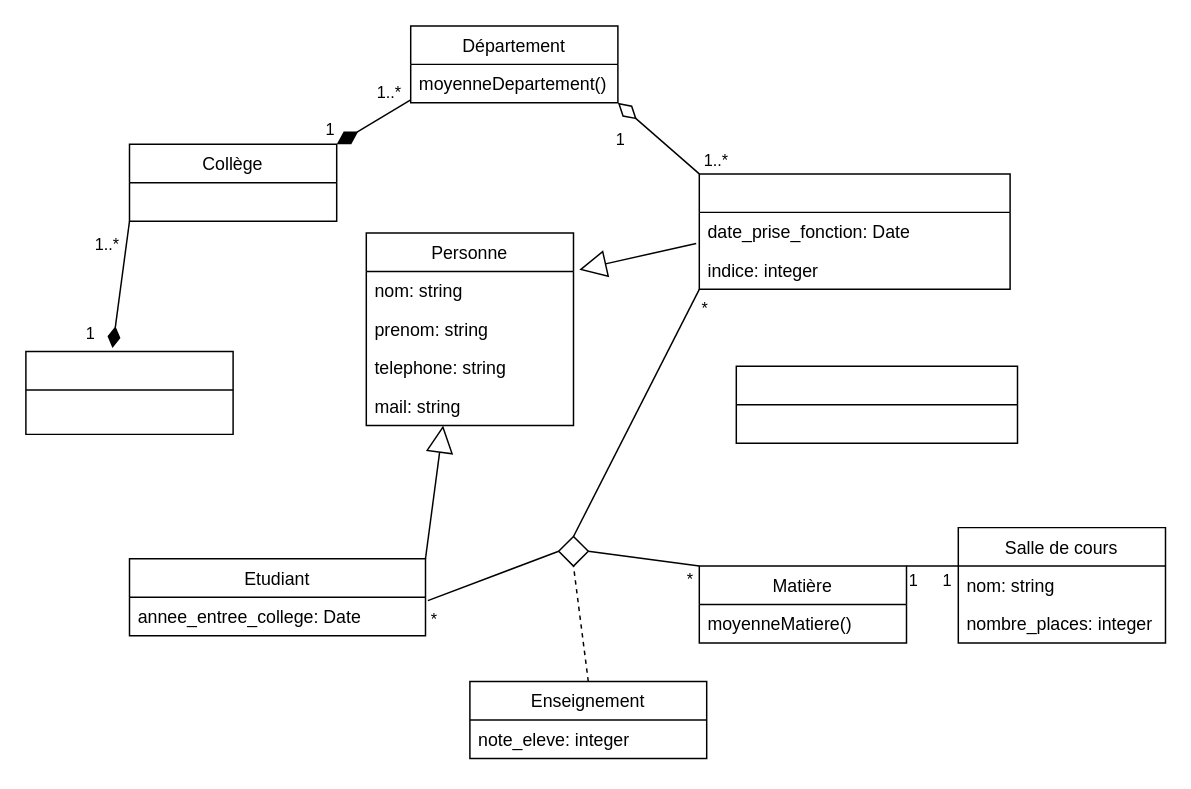
Image size: 1191x789. Some labels were removed from this diagram. Here are the shapes that lost their labels. From the top down, the box of each, then its label:
(698, 172, 1010, 289): Enseignant
(24, 350, 233, 434): Académie
(735, 365, 1018, 443): Responsable de département
